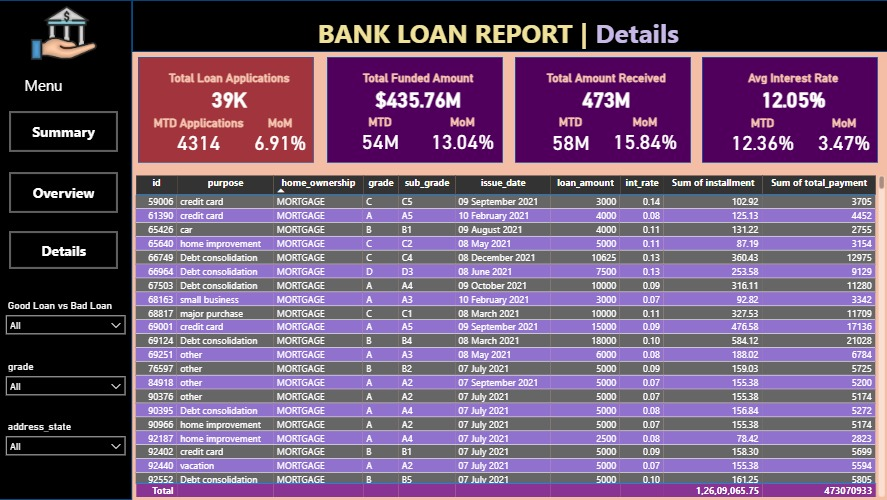

The dashboard page shown, as its layout file describes it:
{"tool":"powerbi","page":{"name":"Details","canvas":[1280,720],"ordinal":2},"visuals":[{"type":"shape","box":[0,0,191.7,720],"z":0},{"type":"card","title":"Total Loan Applications","fields":{"Values":["Measure Table.Total Loan Applications"]},"box":[216,102.8,231.1,61.2],"z":0,"group":"g1"},{"type":"card","title":"Total Funded Amount","fields":{"Values":["Measure Table.Total Funded Amount"]},"box":[488,102.8,231.1,61.2],"z":0,"group":"g2"},{"type":"card","title":"Total Amount Received","fields":{"Values":["Measure Table.Total Amount Received"]},"box":[758.7,102.8,231.1,61.2],"z":0,"group":"g3"},{"type":"card","title":"Avg Interest Rate","fields":{"Values":["Measure Table.avg interest"]},"box":[1028.1,102.8,231.1,61.2],"z":0,"group":"g4"},{"type":"shape","box":[191.5,0,1088.6,74.9],"z":1000},{"type":"card","title":"MTD","fields":{"Values":["Measure Table.MTD loan amount"]},"box":[480.8,166.5,135.4,56.2],"z":1000,"group":"g2"},{"type":"card","title":"MTD","fields":{"Values":["Measure Table.mtd total loan amount"]},"box":[764.8,166.5,116.6,57.6],"z":1000,"group":"g3"},{"type":"card","title":"MTD Applications","fields":{"Values":["Measure Table.mtd applications"]},"box":[214.3,167.1,145.7,54.9],"z":1000,"group":"g1"},{"type":"card","title":"MTD","fields":{"Values":["Measure Table.mtd interest"]},"box":[1026.4,167.1,145.7,54.9],"z":1000,"group":"g4"},{"type":"card","title":"MoM","fields":{"Values":["select","Measure Table.MoM_Totalamount"]},"box":[615.4,166.5,105.1,56.2],"z":2000,"group":"g2"},{"type":"card","title":"MoM","fields":{"Values":["select","Measure Table.MoM total loan"]},"box":[868.5,166.5,123.8,56.2],"z":2000,"group":"g3"},{"type":"card","title":"MoM","fields":{"Values":["Measure Table.MoM","select"]},"box":[361.7,167.1,86.8,54.9],"z":2000,"group":"g1"},{"type":"card","title":"MoM","fields":{"Values":["select","Measure Table.MoM interest"]},"box":[1173.8,167.1,86.8,54.9],"z":2000,"group":"g4"},{"type":"tableEx","fields":{"Values":["financial_loan.id","financial_loan.purpose","financial_loan.home_ownership","financial_loan.grade","financial_loan.sub_grade","financial_loan.issue_date","financial_loan.loan_amount","financial_loan.int_rate","Sum(financial_loan.installment)","Sum(financial_loan.total_payment)"]},"box":[191.7,247.3,1088.8,472.7],"z":2000},{"type":"shape","box":[200.2,82.1,253.2,152.2],"z":2002,"group":"g5"},{"type":"shape","box":[472.3,82.1,253.2,152.2],"z":2002,"group":"g6"},{"type":"shape","box":[743,82.1,253.2,152.2],"z":2002,"group":"g7"},{"type":"shape","box":[1012.3,82.1,253.2,152.2],"z":2002,"group":"g8"},{"type":"group","id":"g1","title":"Group 1","box":[214.3,102.8,234.2,119.2],"z":2502,"group":"g5"},{"type":"group","id":"g2","title":"Group 1","box":[480.8,102.8,239.7,119.9],"z":2502,"group":"g6"},{"type":"group","id":"g3","title":"Group 1","box":[758.7,102.8,233.6,121.3],"z":2502,"group":"g7"},{"type":"group","id":"g4","title":"Group 1","box":[1026.4,102.8,234.2,119.2],"z":2502,"group":"g8"},{"type":"actionButton","box":[14.4,247.7,157,59],"z":3000},{"type":"actionButton","box":[14.4,332.6,157,54.7],"z":4000},{"type":"actionButton","box":[14.4,159.8,157,59],"z":5000},{"type":"textbox","box":[14.4,103.7,99.4,43.2],"z":6000},{"type":"textbox","box":[335.5,0,763.2,87.8],"z":7000},{"type":"slicer","fields":{"Values":["financial_loan.grade"]},"box":[0,514.1,191.5,61.9],"z":8000},{"type":"slicer","fields":{"Values":["financial_loan.good loan vs bad loan"]},"box":[0,426.2,191.5,67.7],"z":9000},{"type":"slicer","fields":{"Values":["financial_loan.address_state"]},"box":[0,600.5,191.5,69.1],"z":10000},{"type":"image","box":[28.8,0,128.2,95],"z":11000},{"type":"group","id":"g5","title":"Group 2","box":[200.2,82.1,253.4,152.6],"z":12000},{"type":"group","id":"g6","title":"Group 2","box":[472.3,82.1,253.2,152.2],"z":13000},{"type":"group","id":"g7","title":"Group 2","box":[743,82.1,253.2,152.2],"z":14000},{"type":"group","id":"g8","title":"Group 2","box":[1012.3,82.1,253.4,152.6],"z":15000}]}

Visuals, with their boxes in screenshot pixels (x1, y1, x2, y2), scaled from the page's 1280x720 canvas onto the 887x500 screenshot:
shape: [x1=0, y1=0, x2=133, y2=499]
"Total Loan Applications" card: [x1=150, y1=71, x2=310, y2=114]
"Total Funded Amount" card: [x1=338, y1=71, x2=498, y2=114]
"Total Amount Received" card: [x1=526, y1=71, x2=686, y2=114]
"Avg Interest Rate" card: [x1=712, y1=71, x2=873, y2=114]
shape: [x1=133, y1=0, x2=886, y2=52]
"MTD" card: [x1=333, y1=116, x2=427, y2=155]
"MTD" card: [x1=530, y1=116, x2=611, y2=156]
"MTD Applications" card: [x1=149, y1=116, x2=249, y2=154]
"MTD" card: [x1=711, y1=116, x2=812, y2=154]
"MoM" card: [x1=426, y1=116, x2=499, y2=155]
"MoM" card: [x1=602, y1=116, x2=688, y2=155]
"MoM" card: [x1=251, y1=116, x2=311, y2=154]
"MoM" card: [x1=813, y1=116, x2=874, y2=154]
tableEx - financial_loan.id x financial_loan.purpose: [x1=133, y1=172, x2=886, y2=499]
shape: [x1=139, y1=57, x2=314, y2=163]
shape: [x1=327, y1=57, x2=503, y2=163]
shape: [x1=515, y1=57, x2=690, y2=163]
shape: [x1=701, y1=57, x2=877, y2=163]
"Group 1" group: [x1=149, y1=71, x2=311, y2=154]
"Group 1" group: [x1=333, y1=71, x2=499, y2=155]
"Group 1" group: [x1=526, y1=71, x2=688, y2=156]
"Group 1" group: [x1=711, y1=71, x2=874, y2=154]
actionButton: [x1=10, y1=172, x2=119, y2=213]
actionButton: [x1=10, y1=231, x2=119, y2=269]
actionButton: [x1=10, y1=111, x2=119, y2=152]
textbox: [x1=10, y1=72, x2=79, y2=102]
textbox: [x1=232, y1=0, x2=761, y2=61]
slicer - financial_loan.grade: [x1=0, y1=357, x2=133, y2=400]
slicer - financial_loan.good loan vs bad loan: [x1=0, y1=296, x2=133, y2=343]
slicer - financial_loan.address_state: [x1=0, y1=417, x2=133, y2=465]
image: [x1=20, y1=0, x2=109, y2=66]
"Group 2" group: [x1=139, y1=57, x2=314, y2=163]
"Group 2" group: [x1=327, y1=57, x2=503, y2=163]
"Group 2" group: [x1=515, y1=57, x2=690, y2=163]
"Group 2" group: [x1=701, y1=57, x2=877, y2=163]
